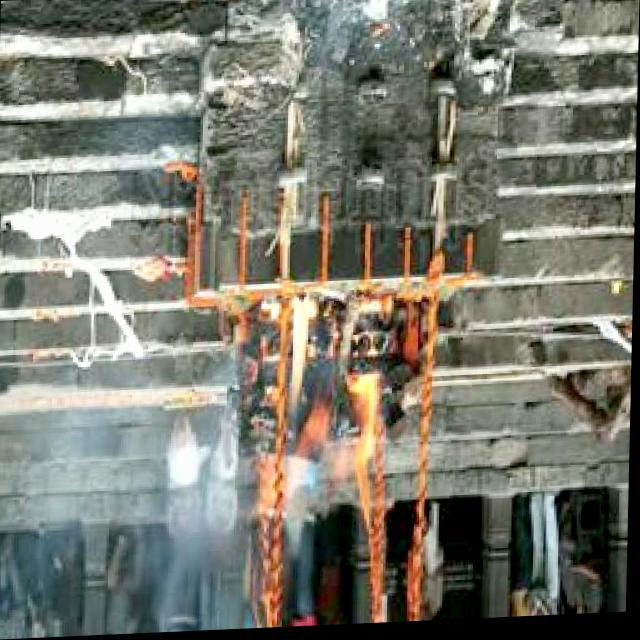Smoke: (269, 289, 389, 522)
